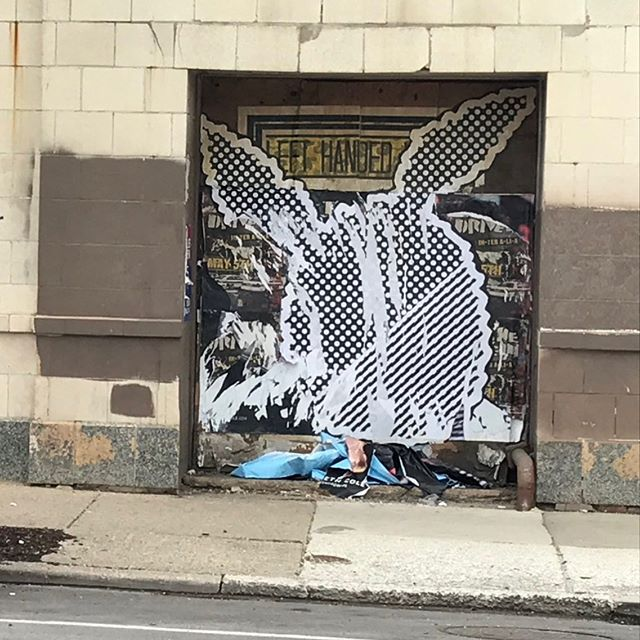graffiti: (197, 80, 527, 494)
sidewalk: (11, 473, 636, 619)
wall: (7, 1, 640, 481)
